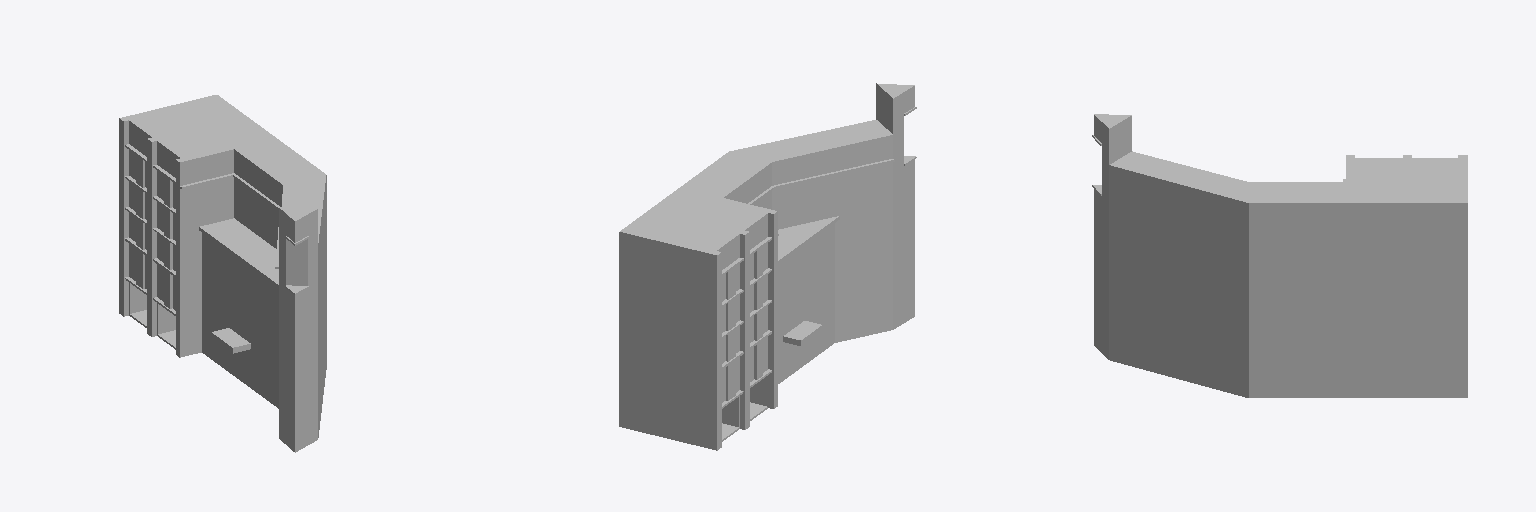
The model's file is ictc_triangulated.obj.
3 renders of one model, left to right at view 1: azimuth 30°, elevation 25°; view 2: azimuth 150°, elevation 25°; view 3: azimuth 270°, elevation 25°, orthographic.
Parts seen in each view (by area): view 1: Cube; view 2: Cube; view 3: Cube.
Part boxes in pixels (left/top/right/bottom): Cube: left=119, top=95, right=326, bottom=452; Cube: left=619, top=83, right=916, bottom=450; Cube: left=1092, top=114, right=1467, bottom=397.
Size of the model in its own units: 2.9 by 5.85 by 8.6.